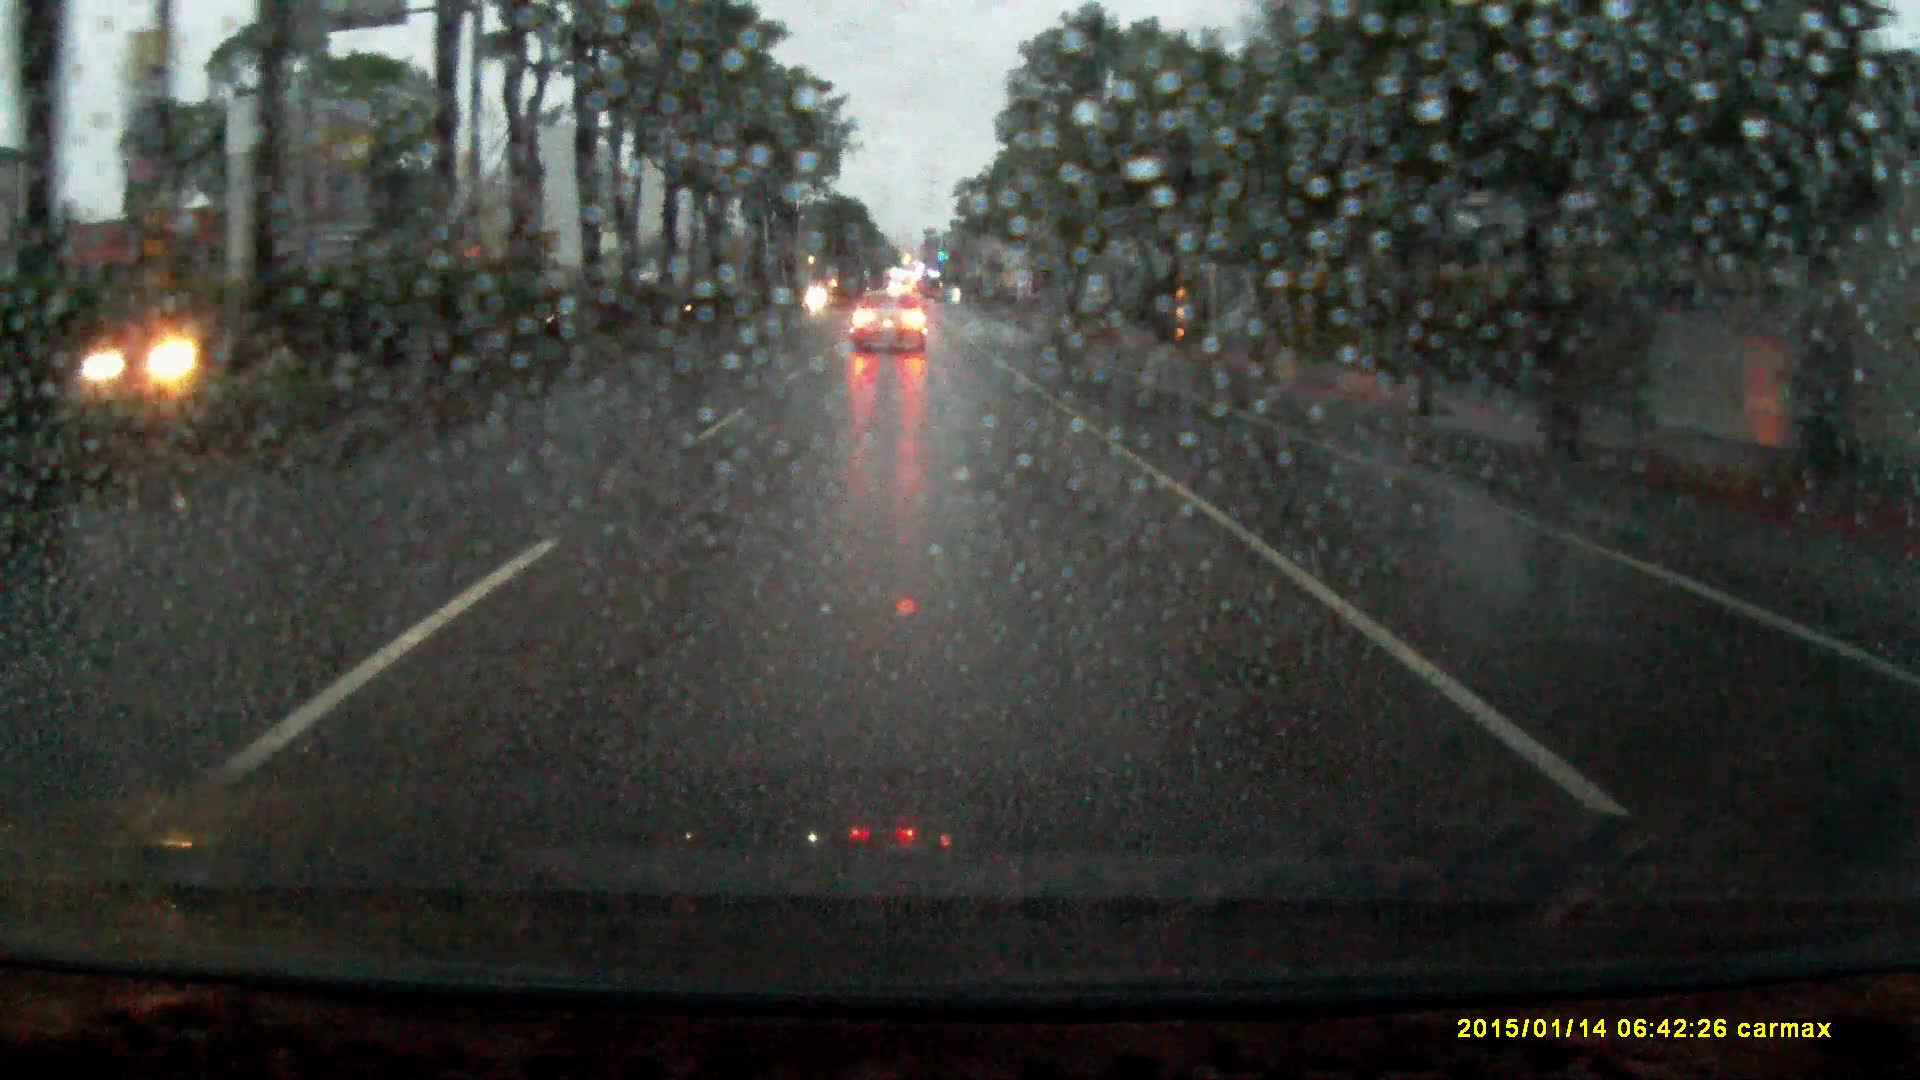vehicle: (76, 316, 220, 405), (849, 287, 931, 357)
